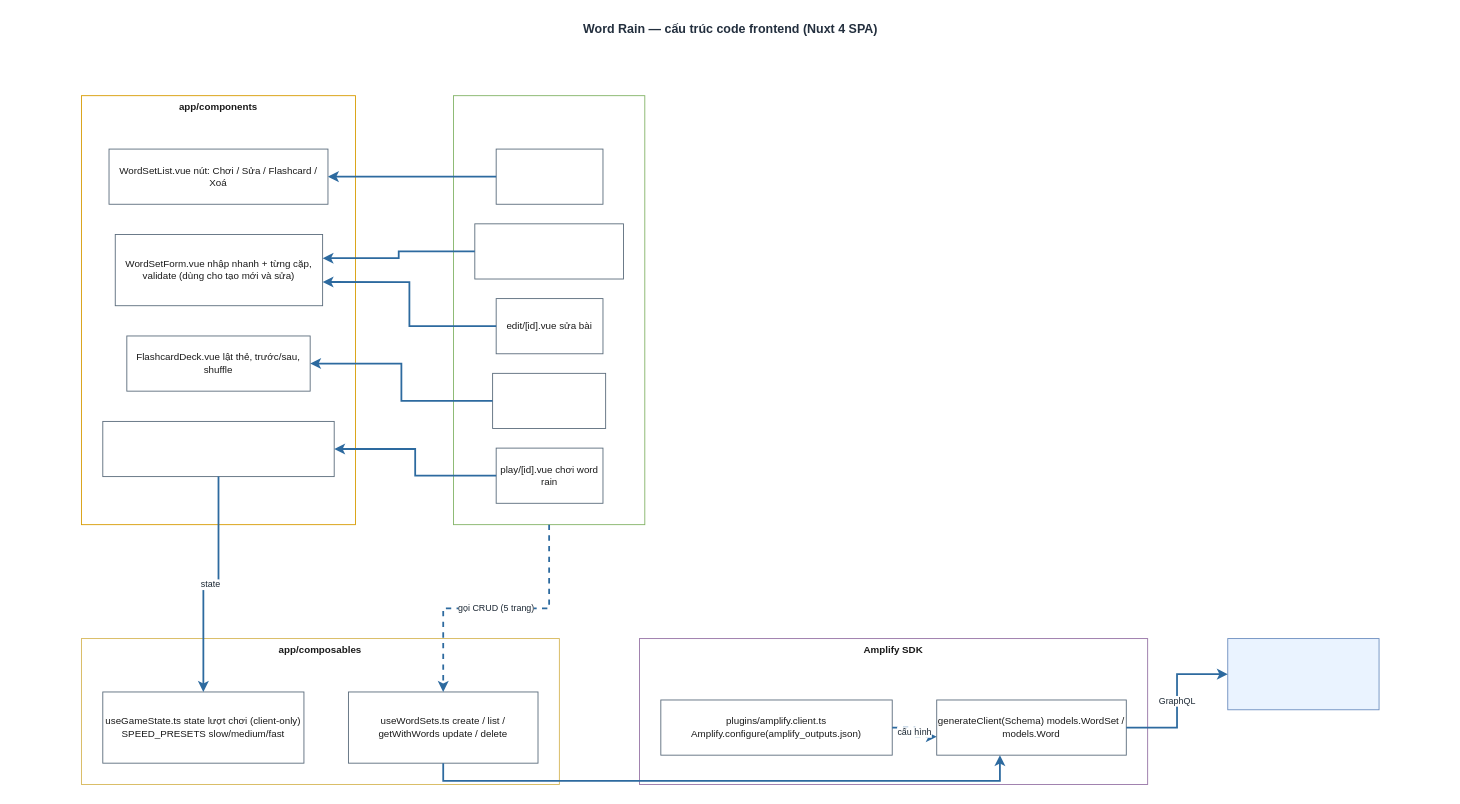
This 1460x804 diagram has some shape labels left out. Here are the shapes that lost their labels. From the top down, the box of each, then its label:
(495, 148, 603, 204): index.vue (/) danh sách bài
(474, 223, 623, 279): create.vue (/create) nhập từ mới
(453, 95, 645, 525): app/pages (route)
(492, 372, 606, 429): review/[id].vue flashcard
(102, 421, 334, 477): WordRainGame.vue chọn tốc độ (nhớ ở localStorage) + màn chơi
(1227, 638, 1379, 710): AppSync → DynamoDB (xem 01-aws-architecture)
